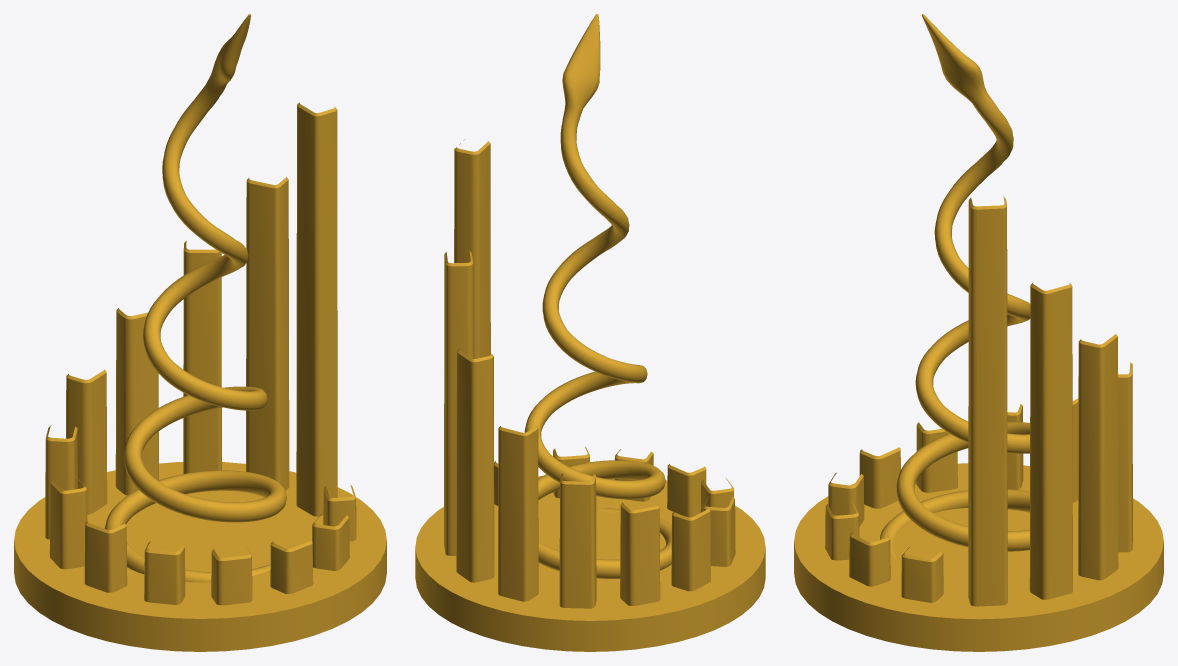
File: economics.glb
3 renders of one model, left to right at view 1: azimuth 30°, elevation 25°; view 2: azimuth 150°, elevation 25°; view 3: azimuth 270°, elevation 25°, orthographic. The views are drawn at different scales.
Visible parts, largest first — view 1: gold_cap, growth_arrow, bar_13, bar_12, bar_11, bar_10, bar_9, bar_7, bar_6, bar_5, bar_4, bar_8 (+3 smaller); view 2: gold_cap, growth_arrow, bar_11, bar_10, bar_13, bar_12, bar_9, bar_8, bar_7, bar_4, bar_6, bar_5; view 3: gold_cap, bar_13, growth_arrow, bar_12, bar_11, bar_10, bar_5, bar_1, bar_2, bar_6, bar_3, bar_4 (+2 smaller).
Part boxes in pixels (x1=…): gold_cap: x1=14, y1=462, x2=386, y2=651; growth_arrow: x1=104, y1=14, x2=286, y2=582; bar_13: x1=296, y1=102, x2=337, y2=516; bar_12: x1=246, y1=177, x2=289, y2=490; bar_11: x1=183, y1=241, x2=221, y2=473; bar_10: x1=115, y1=308, x2=158, y2=495; bar_9: x1=66, y1=369, x2=107, y2=514; bar_7: x1=49, y1=476, x2=87, y2=569; bar_6: x1=84, y1=521, x2=127, y2=592; bar_5: x1=144, y1=541, x2=185, y2=604; bar_4: x1=211, y1=547, x2=252, y2=605; bar_8: x1=45, y1=425, x2=77, y2=539; gold_cap: x1=415, y1=475, x2=765, y2=651; growth_arrow: x1=524, y1=14, x2=671, y2=578; bar_11: x1=456, y1=349, x2=494, y2=582; bar_10: x1=498, y1=425, x2=538, y2=601; bar_13: x1=454, y1=139, x2=490, y2=358; bar_12: x1=444, y1=251, x2=473, y2=555; bar_9: x1=559, y1=473, x2=596, y2=608; bar_8: x1=620, y1=500, x2=660, y2=605; bar_7: x1=671, y1=508, x2=710, y2=591; bar_4: x1=667, y1=464, x2=706, y2=517; bar_6: x1=703, y1=496, x2=735, y2=566; bar_5: x1=700, y1=478, x2=733, y2=512; gold_cap: x1=794, y1=463, x2=1163, y2=651; bar_13: x1=968, y1=196, x2=1007, y2=606; growth_arrow: x1=880, y1=14, x2=1030, y2=560; bar_12: x1=1029, y1=283, x2=1072, y2=599; bar_11: x1=1078, y1=334, x2=1118, y2=580; bar_10: x1=1118, y1=362, x2=1132, y2=552; bar_5: x1=859, y1=447, x2=900, y2=508; bar_1: x1=901, y1=546, x2=943, y2=602; bar_2: x1=849, y1=532, x2=890, y2=586; bar_6: x1=916, y1=422, x2=957, y2=492; bar_3: x1=825, y1=502, x2=859, y2=560; bar_4: x1=828, y1=472, x2=864, y2=526.
Bounding box in the file's own units: 0.2661 × 0.4525 × 0.2661.
